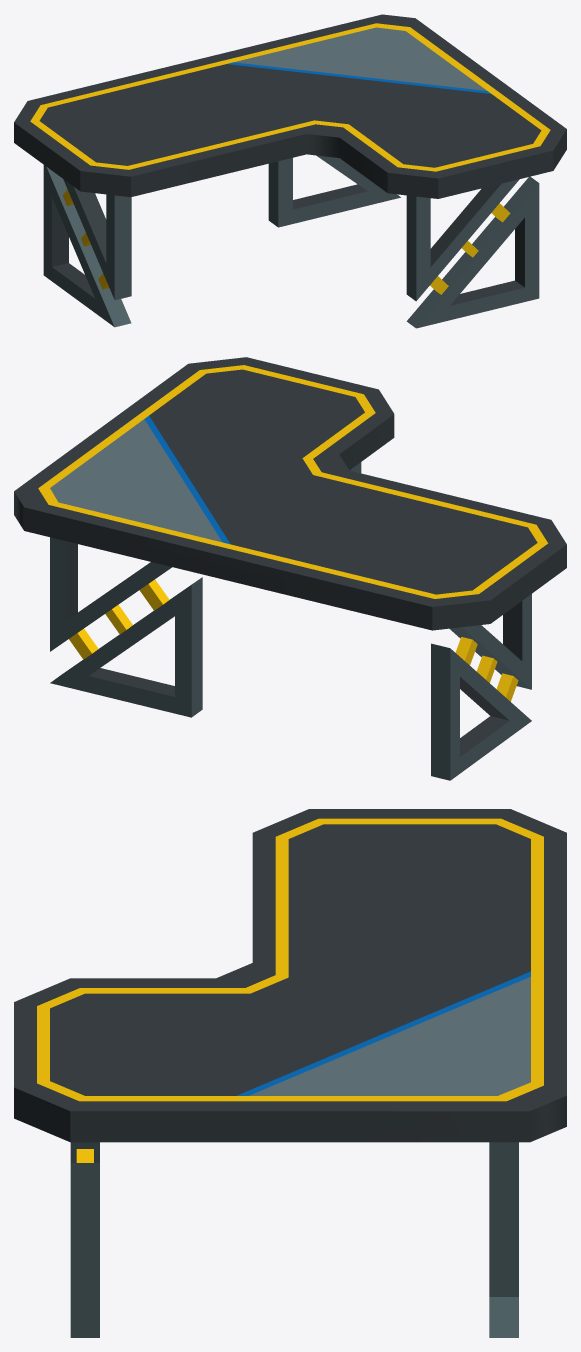
File: Desk_008.fbx
The picture shows the model from 3 angles, top to bottom: view 1: azimuth 30°, elevation 25°; view 2: azimuth 150°, elevation 25°; view 3: azimuth 270°, elevation 25°; orthographic projection. The views are drawn at different scales.
Visible parts, largest first — view 1: Desk_008; view 2: Desk_008; view 3: Desk_008.
Part boxes in pixels (left/top/right/bottom): Desk_008: left=14, top=14, right=566, bottom=328; Desk_008: left=14, top=357, right=566, bottom=780; Desk_008: left=14, top=809, right=566, bottom=1337.
Bounding box in the file's own units: 221 × 171 × 84.18.
